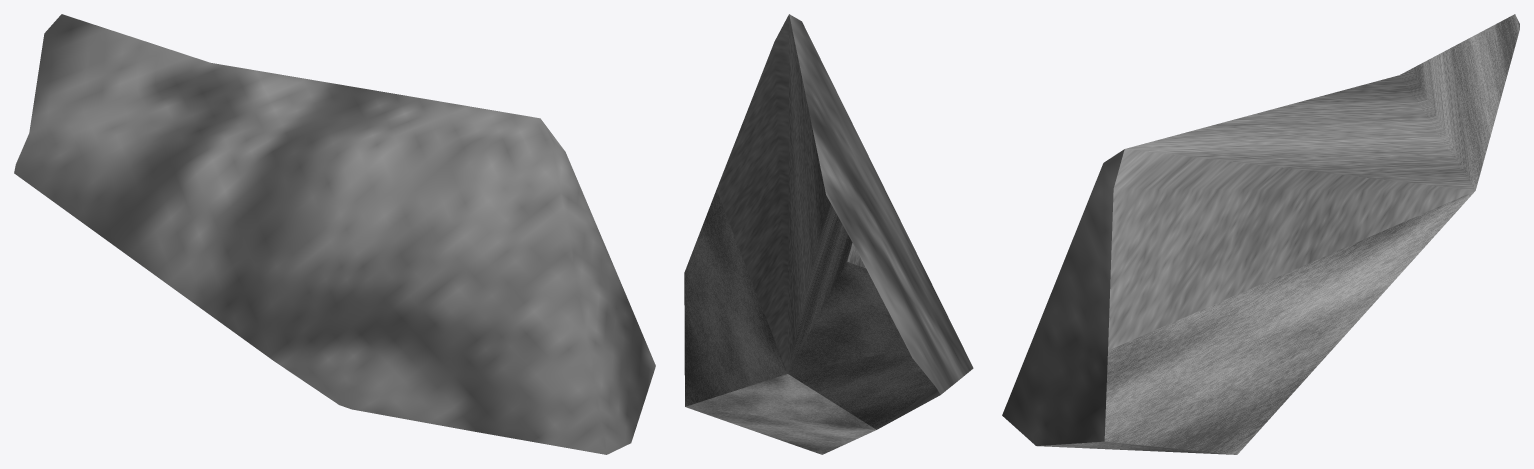
The model's file is tail_cell_016.fbx.
3 views of the same model, side by side, from view 1: azimuth 30°, elevation 25°; view 2: azimuth 150°, elevation 25°; view 3: azimuth 270°, elevation 25° (orthographic). The views are drawn at different scales.
Parts seen in each view (by area): view 1: tail_cell.016; view 2: tail_cell.016; view 3: tail_cell.016.
Part boxes in pixels (bbox=[...]): tail_cell.016: bbox=[14, 14, 655, 454]; tail_cell.016: bbox=[684, 14, 973, 454]; tail_cell.016: bbox=[1002, 14, 1519, 454].
Bounding box in the file's own units: 44.43 × 32.18 × 49.44.
